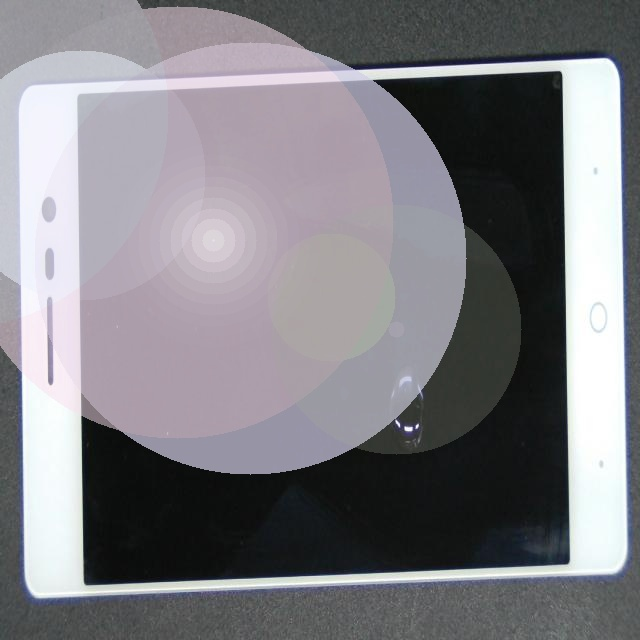oil: (202, 151, 596, 560)
